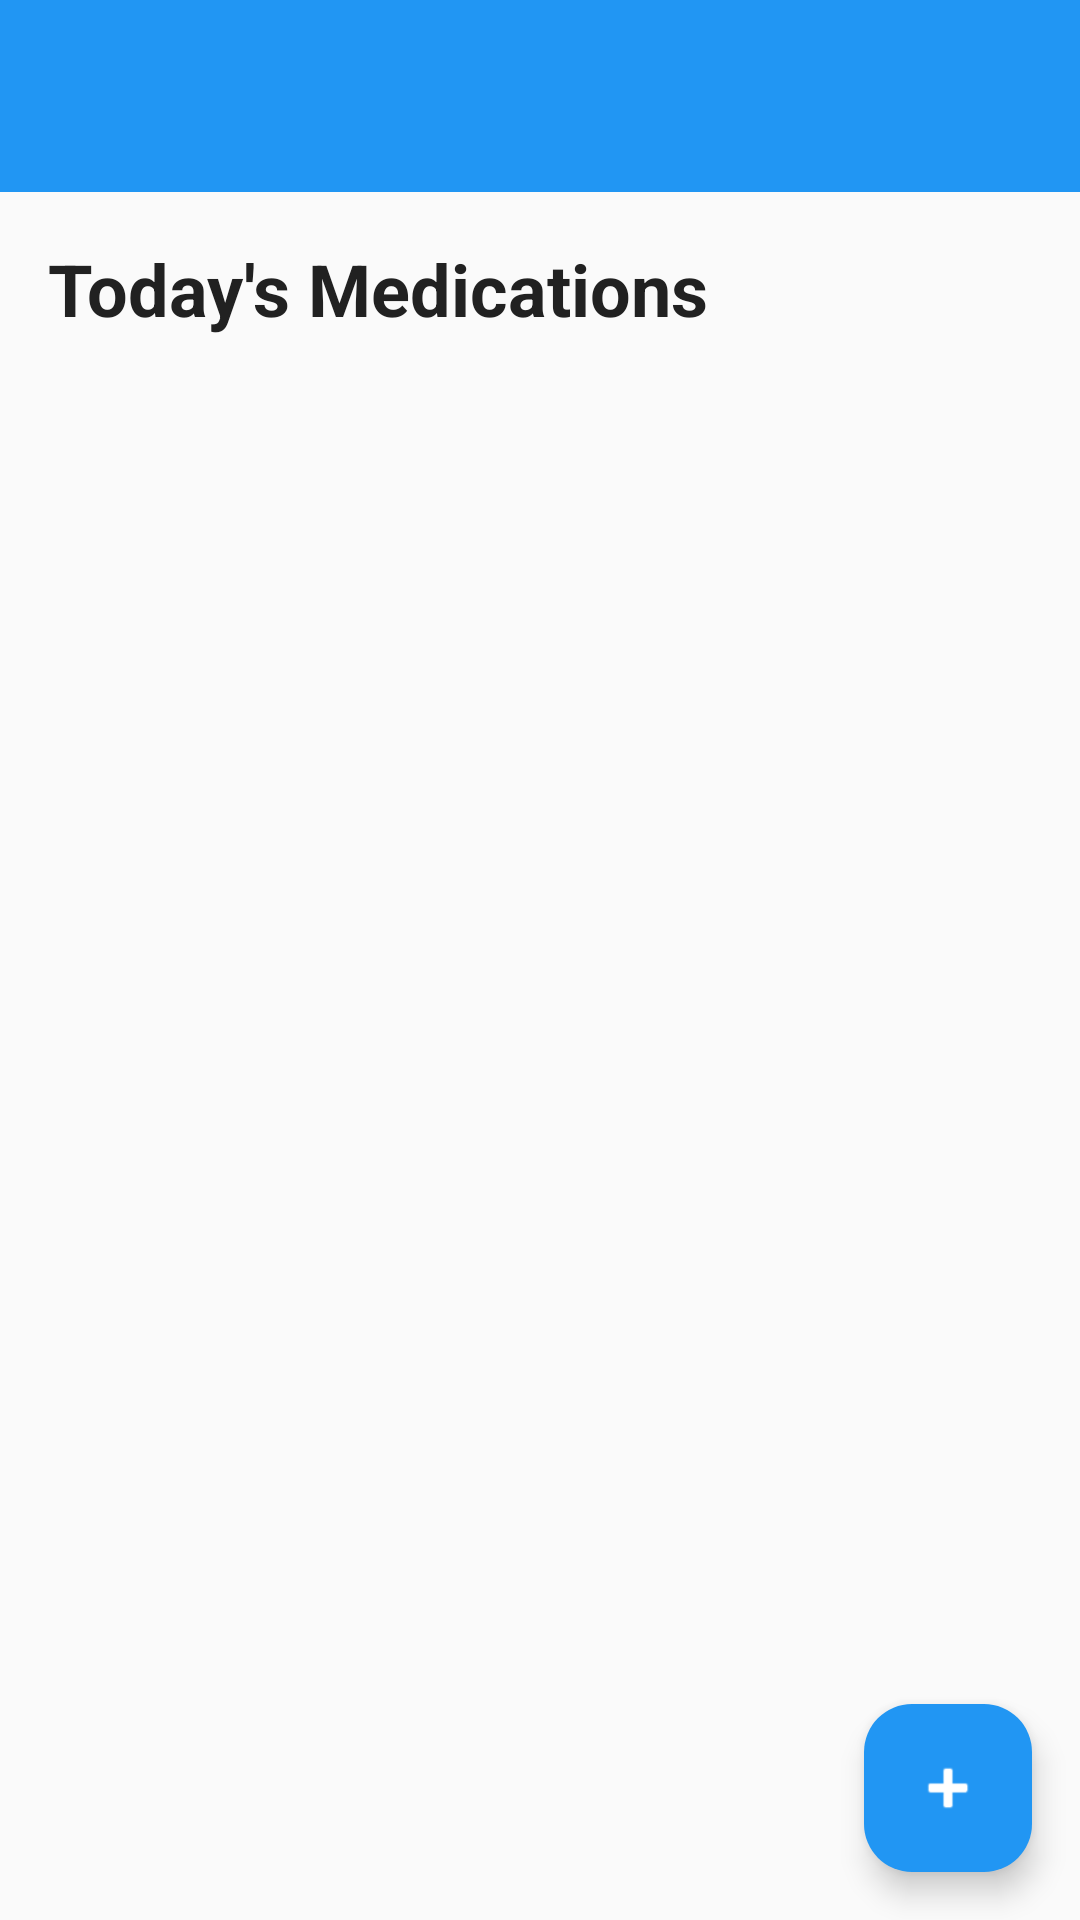

Locate icon controls on the screen. Image size 1080×1920, boxes as region(x1, y1, x2, y2).
add: region(864, 1704, 1032, 1872)
